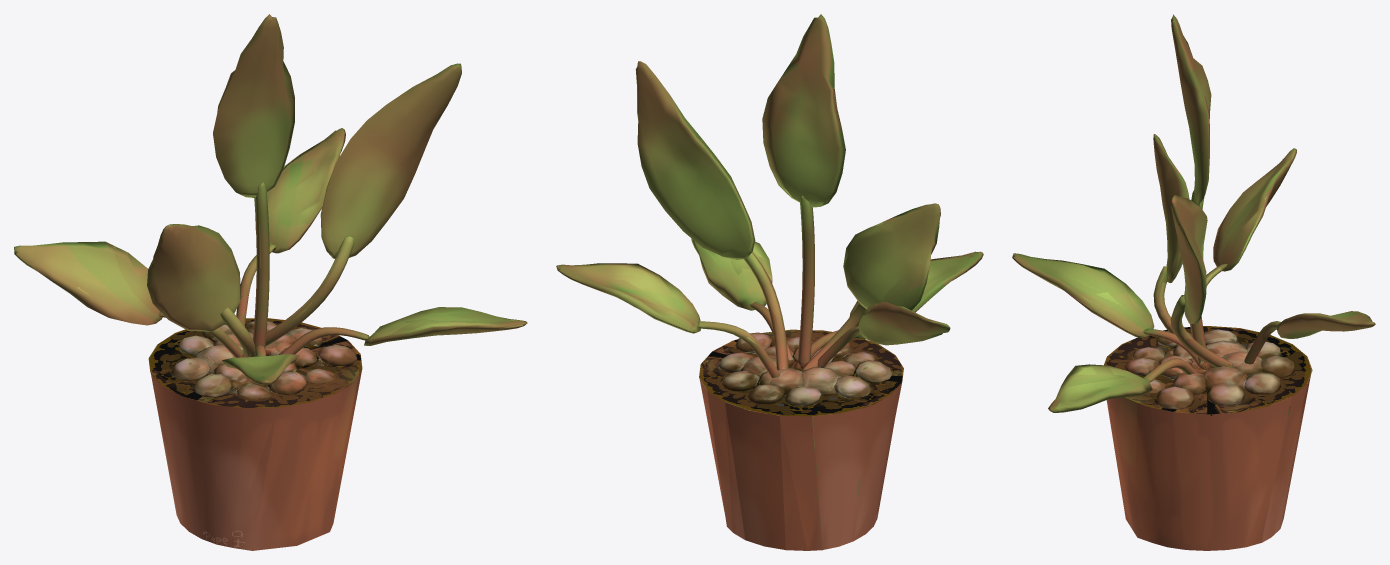
Rendered from plantita_pintada.fbx.
3 renders of one model, left to right at view 1: azimuth 30°, elevation 25°; view 2: azimuth 150°, elevation 25°; view 3: azimuth 270°, elevation 25°, orthographic. The views are drawn at different scales.
Parts seen in each view (by area): view 1: pSphere27; view 2: pSphere27; view 3: pSphere27.
Part boxes in pixels (<box>): pSphere27: <box>14,14,527,550</box>; pSphere27: <box>556,14,983,550</box>; pSphere27: <box>1012,14,1375,550</box>.
Bounding box in the file's own units: 307 × 386 × 253.
